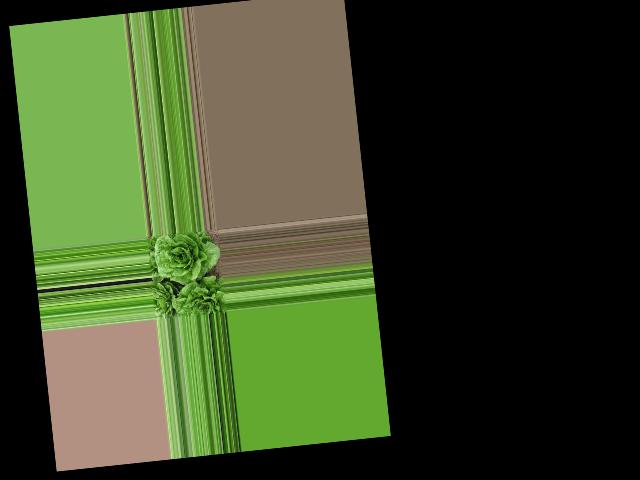lettuce: (169, 279, 225, 318)
